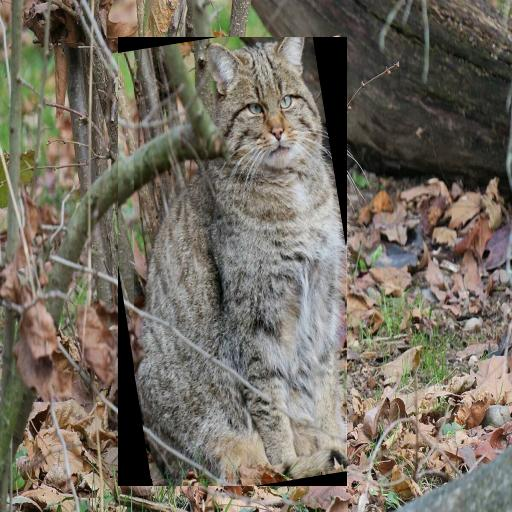cat: (134, 37, 346, 479)
